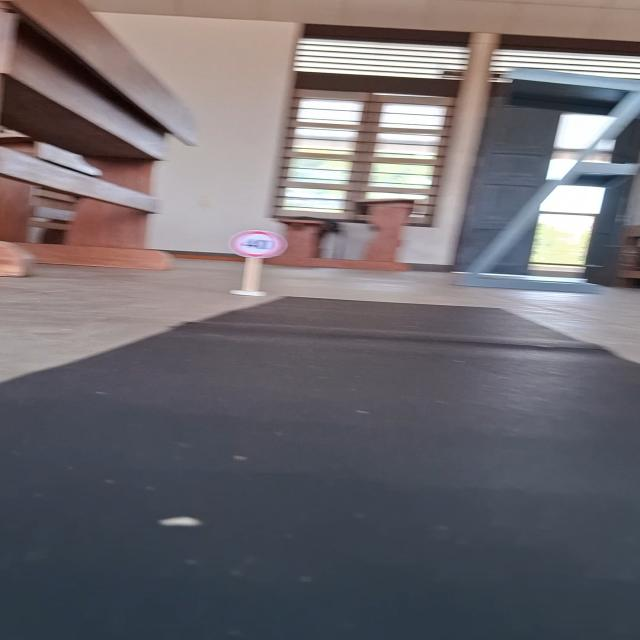Speed40: (227, 228, 290, 260)
